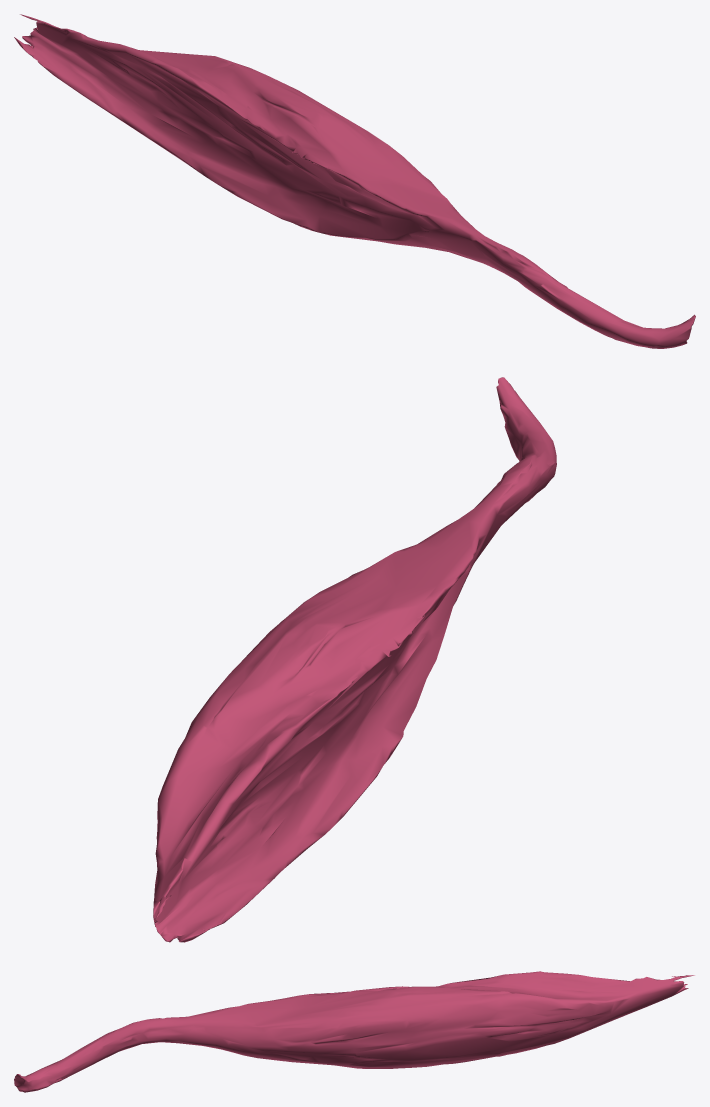
3 renders of one model, top to bottom at view 1: azimuth 30°, elevation 25°; view 2: azimuth 150°, elevation 25°; view 3: azimuth 270°, elevation 25°, orthographic. The views are drawn at different scales.
Parts seen in each view (by area): view 1: 右侧肱二头肌短头; view 2: 右侧肱二头肌短头; view 3: 右侧肱二头肌短头.
Boxes of the visible parts, x1,y1,x2,y2 form: 右侧肱二头肌短头: [14, 14, 695, 348]; 右侧肱二头肌短头: [153, 377, 556, 942]; 右侧肱二头肌短头: [14, 971, 694, 1092].
Size of the model in its own units: 0.1201 by 0.0507 by 0.4023.
